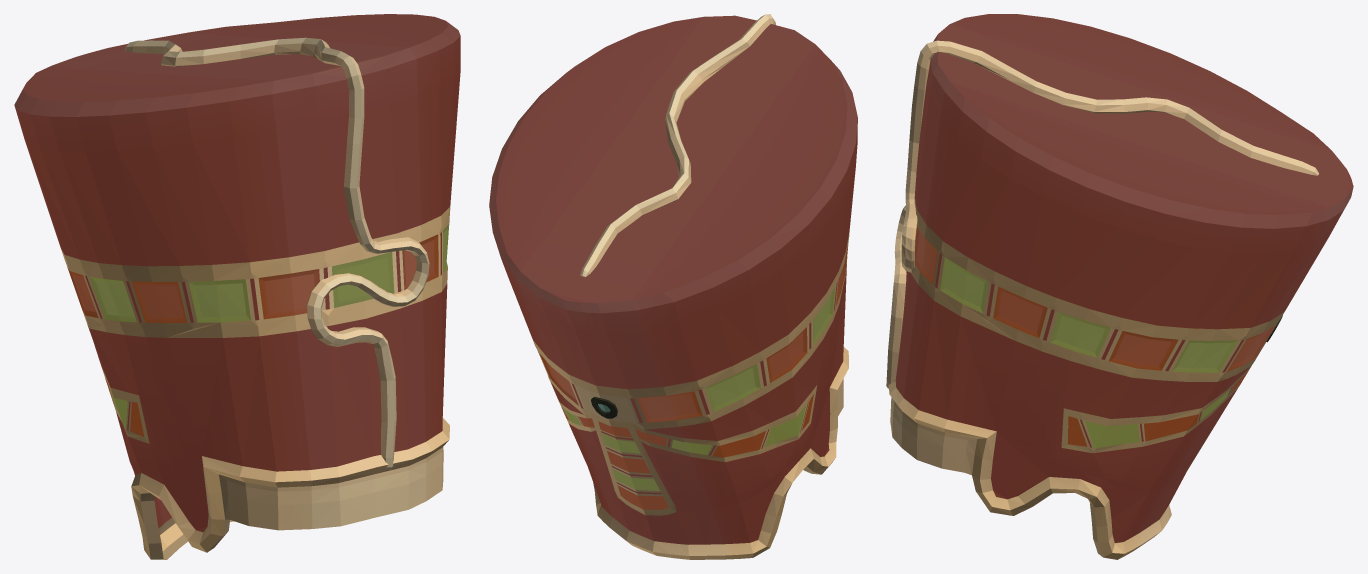
File: nefertitiHat.glb
3 renders of one model, left to right at view 1: azimuth 30°, elevation 25°; view 2: azimuth 150°, elevation 25°; view 3: azimuth 270°, elevation 25°, orthographic. The views are drawn at different scales.
Parts seen in each view (by area): view 1: nefertitiHat; view 2: nefertitiHat; view 3: nefertitiHat.
Boxes of the visible parts, x1=… form: nefertitiHat: x1=14, y1=14, x2=460, y2=559; nefertitiHat: x1=489, y1=14, x2=857, y2=559; nefertitiHat: x1=886, y1=14, x2=1353, y2=559.
Bounding box in the file's own units: 0.3818 × 0.538 × 0.4728.
